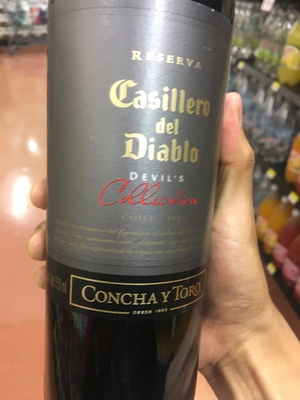casillero del diablo devils collection rojo: (48, 2, 227, 400)
